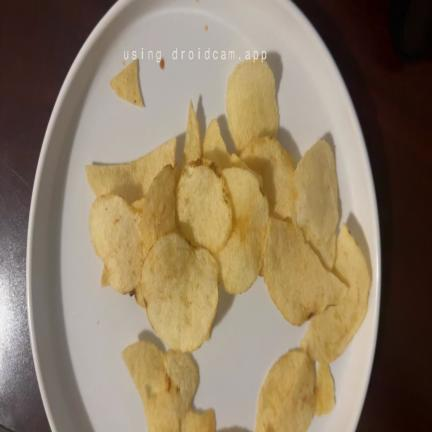chips: (302, 225, 370, 363), (139, 233, 218, 351), (263, 218, 346, 325), (122, 342, 214, 431), (218, 168, 268, 293), (86, 138, 176, 203), (292, 141, 338, 268), (90, 195, 142, 293), (177, 159, 231, 253), (226, 60, 278, 152), (256, 350, 315, 431), (241, 137, 295, 218), (141, 165, 175, 256), (275, 363, 317, 432), (164, 350, 199, 416), (203, 120, 249, 169), (110, 60, 143, 107), (203, 119, 232, 169), (183, 101, 201, 166), (315, 363, 334, 415), (181, 410, 215, 431), (132, 197, 144, 211), (101, 266, 109, 286)
plate: (27, 0, 380, 431)
